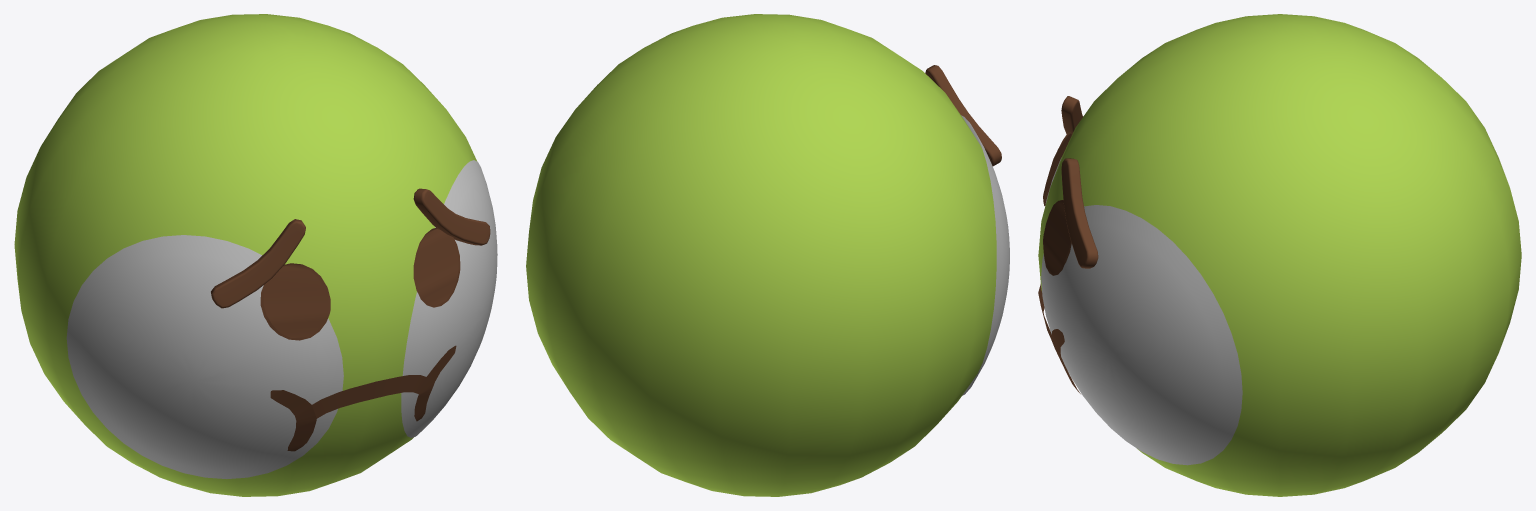
File: Emojis12.fbx
The picture shows the model from 3 angles, left to right: view 1: azimuth 30°, elevation 25°; view 2: azimuth 150°, elevation 25°; view 3: azimuth 270°, elevation 25°; orthographic projection.
Visible parts, largest first — view 1: Emojis12; view 2: Emojis12; view 3: Emojis12.
Part boxes in pixels (<box>): Emojis12: <box>14,14,497,496</box>; Emojis12: <box>526,14,1009,496</box>; Emojis12: <box>1038,14,1521,496</box>.
Bounding box in the file's own units: 200 × 200 × 200.
